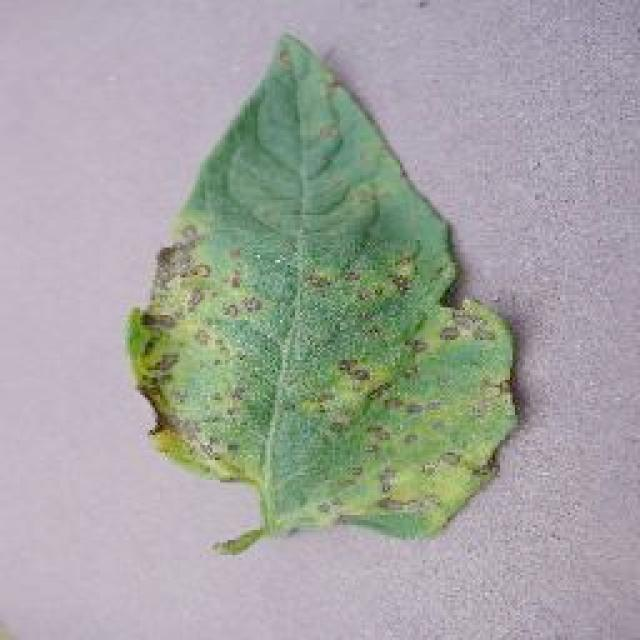Tomato Septoria spot leaf: (125, 29, 525, 544)
